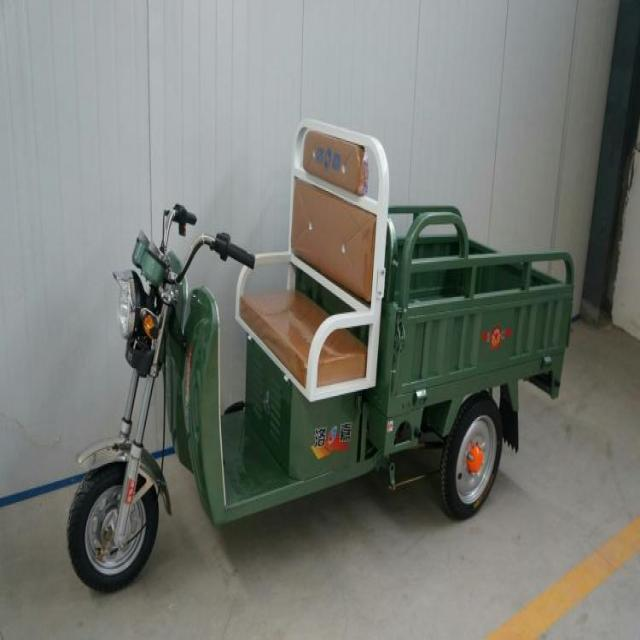tricycle: (61, 117, 570, 596)
